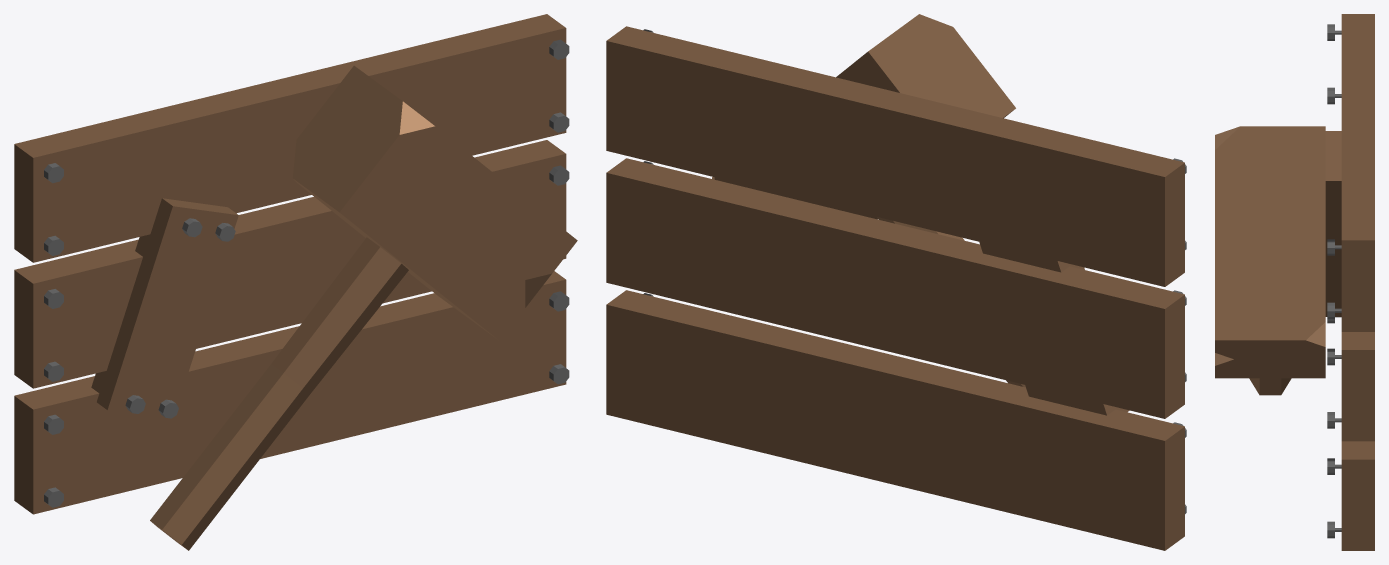
The model's file is repairmodel.fbx.
3 renders of one model, left to right at view 1: azimuth 30°, elevation 25°; view 2: azimuth 150°, elevation 25°; view 3: azimuth 270°, elevation 25°, orthographic. The views are drawn at different scales.
Parts seen in each view (by area): view 1: Cylinder; view 2: Cylinder; view 3: Cylinder.
Part boxes in pixels (bbox=[...]): Cylinder: bbox=[14, 14, 577, 550]; Cylinder: bbox=[606, 14, 1186, 550]; Cylinder: bbox=[1215, 14, 1374, 550].
Size of the model in its own units: 21.72 by 15.89 by 6.47.
Materials: 1 (1 with a texture image).
